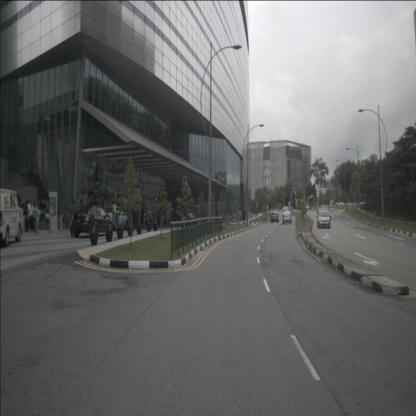human-pedestrian-adult: (69, 200, 76, 237), (26, 199, 33, 233), (23, 202, 30, 232), (80, 198, 86, 231), (33, 201, 39, 234), (29, 201, 35, 232), (40, 196, 47, 211), (38, 207, 44, 223), (46, 209, 51, 228), (243, 207, 246, 224), (239, 208, 242, 223)
vehicle-bicycle: (222, 215, 229, 225)
vehicle-car: (0, 188, 24, 248), (70, 205, 113, 238), (102, 204, 130, 231), (317, 210, 330, 228), (282, 210, 292, 224), (188, 211, 198, 225), (317, 208, 327, 222), (270, 212, 279, 223), (324, 209, 331, 220), (336, 200, 345, 207)
vehicle-motorcycle: (181, 212, 188, 228)
